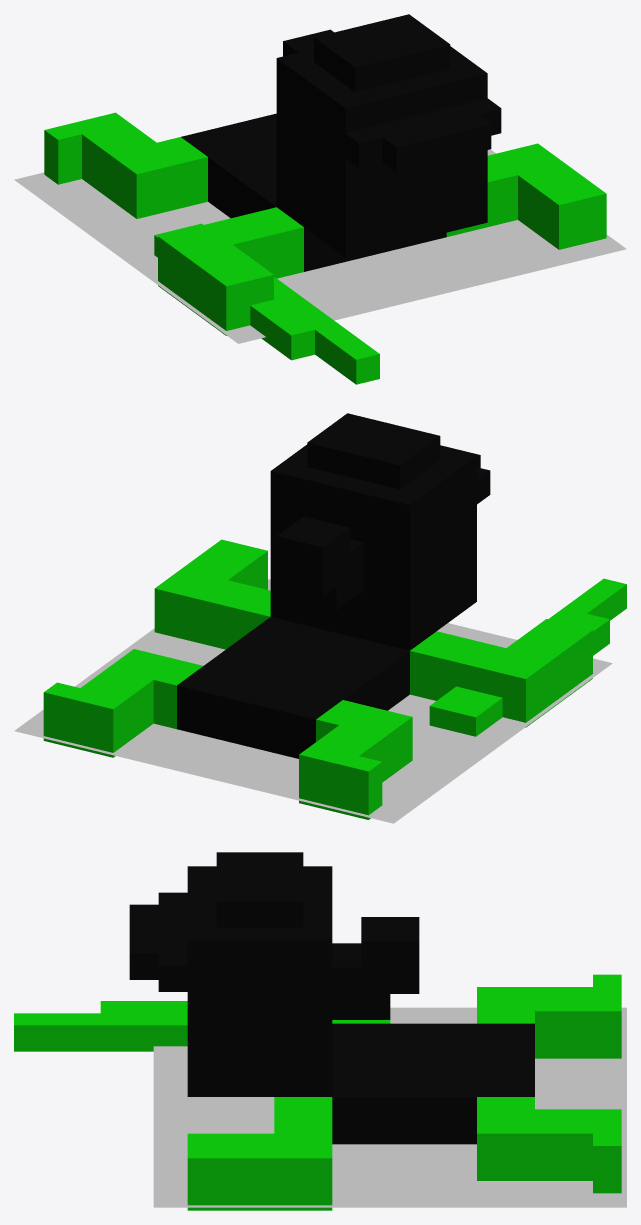
The model's file is snake_unknown_body_v7.FBX.
3 views of the same model, one above another, from view 1: azimuth 30°, elevation 25°; view 2: azimuth 150°, elevation 25°; view 3: azimuth 270°, elevation 25° (orthographic). The views are drawn at different scales.
Visible parts, largest first — view 1: snake_unknown_body_v7, snake_unknown_soft_shadow; view 2: snake_unknown_body_v7, snake_unknown_soft_shadow; view 3: snake_unknown_body_v7, snake_unknown_soft_shadow.
Part boxes in pixels (bbox=[...]): snake_unknown_body_v7: bbox=[44, 14, 606, 384]; snake_unknown_soft_shadow: bbox=[14, 149, 626, 343]; snake_unknown_body_v7: bbox=[43, 413, 626, 819]; snake_unknown_soft_shadow: bbox=[14, 579, 612, 823]; snake_unknown_body_v7: bbox=[14, 852, 621, 1210]; snake_unknown_soft_shadow: bbox=[153, 1007, 626, 1207].
Bounding box in the file's own units: 81.79 × 45 × 106.
